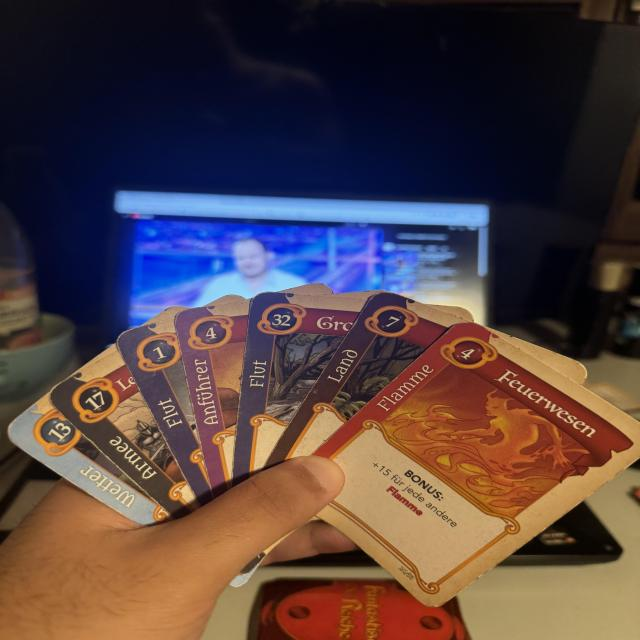Fire Elemental: (308, 318, 640, 609)
Forest: (266, 287, 461, 468)
Fountain Of Life: (112, 319, 218, 505)
Great Flood: (233, 292, 364, 483)
Light Cavalry: (45, 352, 199, 520)
Warlord: (174, 299, 248, 497)
Whirlwind: (3, 397, 172, 530)
